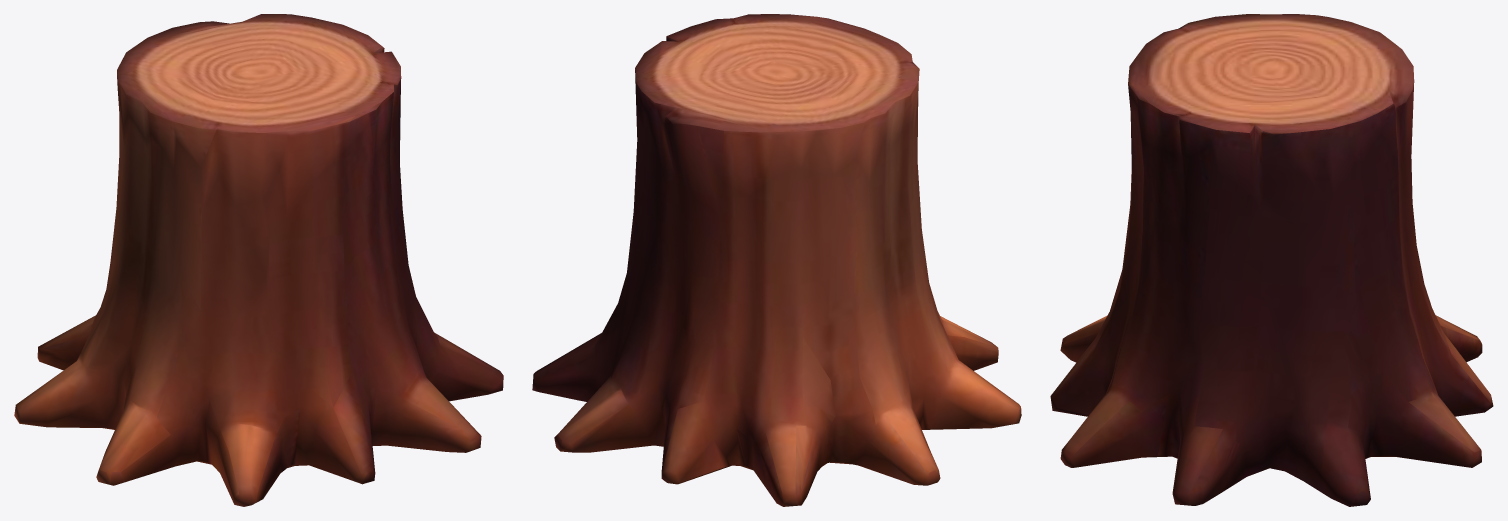
The model's file is sz-stump.glb.
The picture shows the model from 3 angles, left to right: view 1: azimuth 30°, elevation 25°; view 2: azimuth 150°, elevation 25°; view 3: azimuth 270°, elevation 25°; orthographic projection.
Visible parts, largest first — view 1: geometry_0; view 2: geometry_0; view 3: geometry_0.
Boxes of the visible parts, bbox=[...] form: geometry_0: bbox=[14, 14, 503, 506]; geometry_0: bbox=[532, 14, 1021, 506]; geometry_0: bbox=[1050, 14, 1493, 506].
Size of the model in its own units: 1 by 0.7904 by 0.9382.
Materials: 1 (1 with a texture image).
